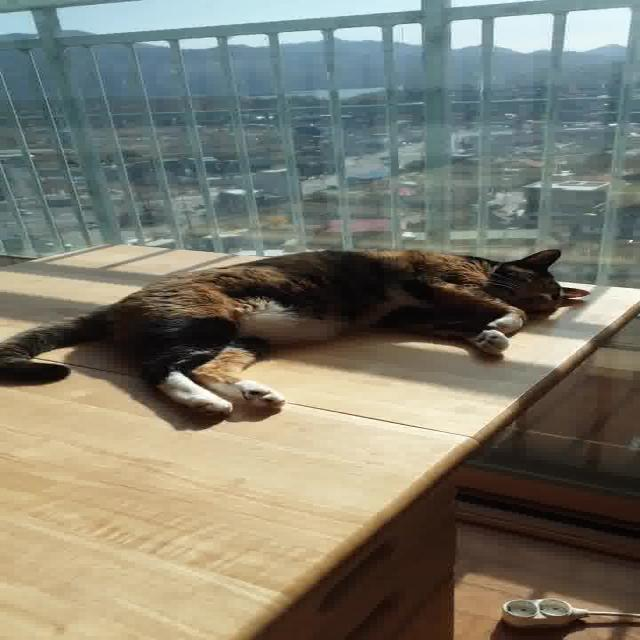cat: (0, 199, 596, 434)
